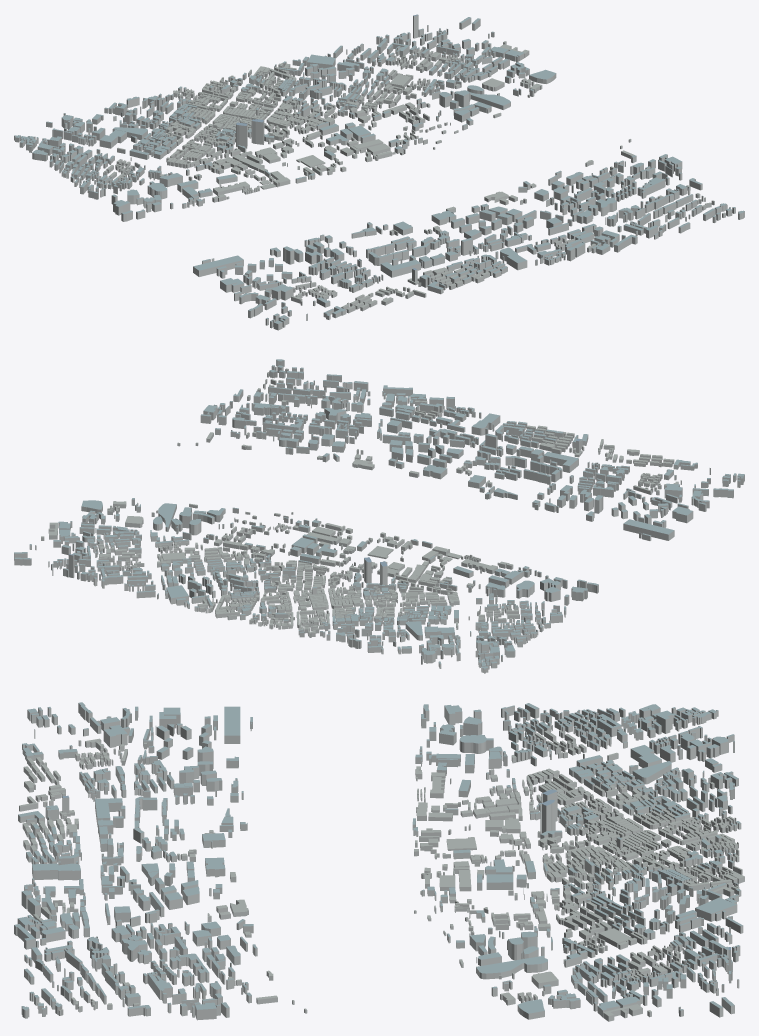
Rendered from far.glb.
3 views of the same model, one above another, from view 1: azimuth 30°, elevation 25°; view 2: azimuth 150°, elevation 25°; view 3: azimuth 270°, elevation 25° (orthographic). The views are drawn at different scales.
Size of the model in its own units: 2149 by 96 by 2142.
